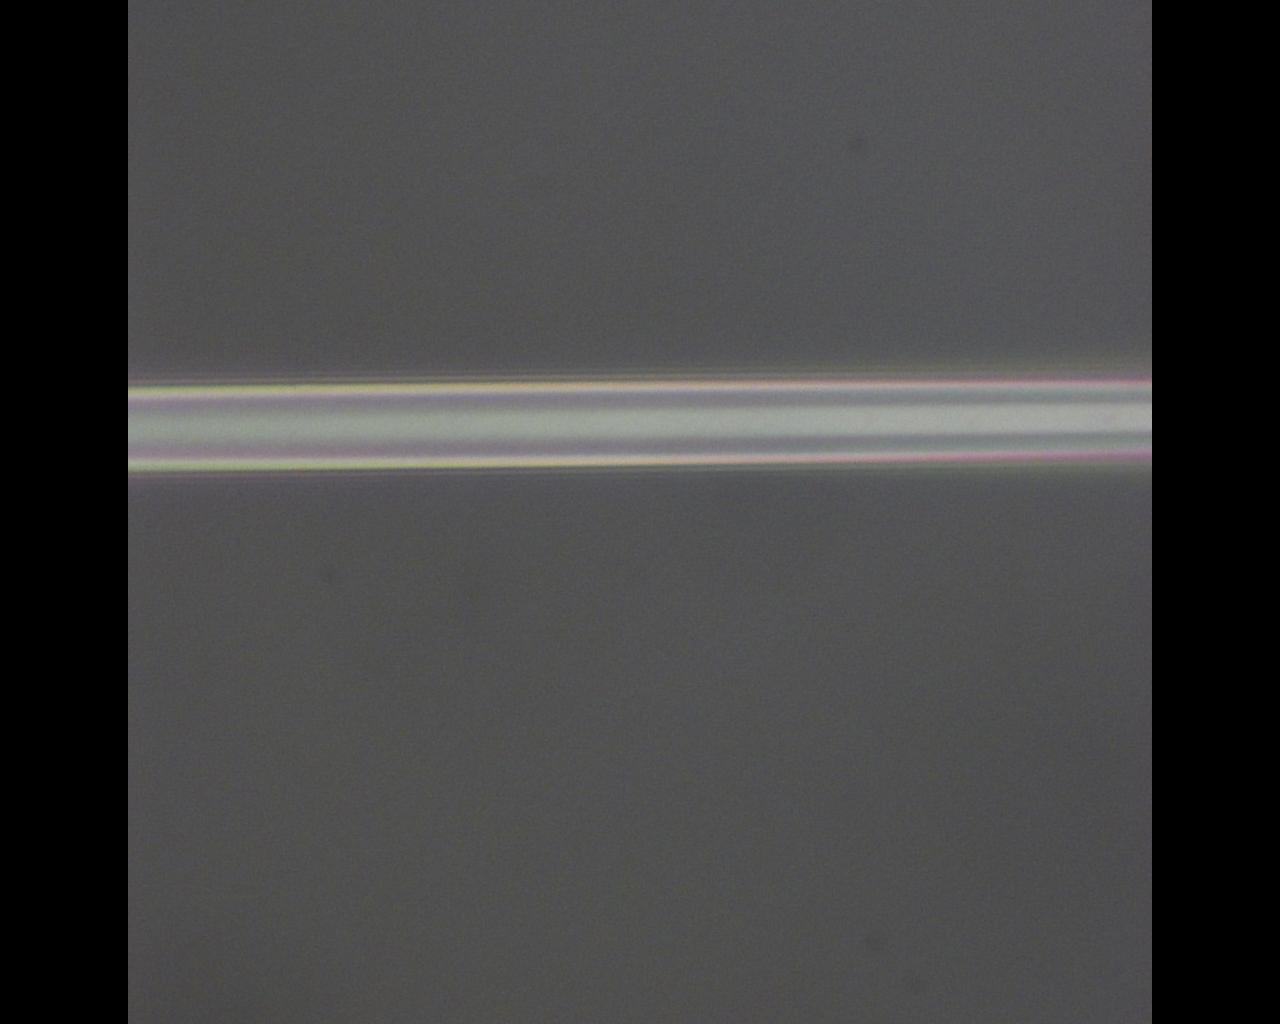fiber: (90, 13, 588, 808), (588, 279, 1280, 300)
